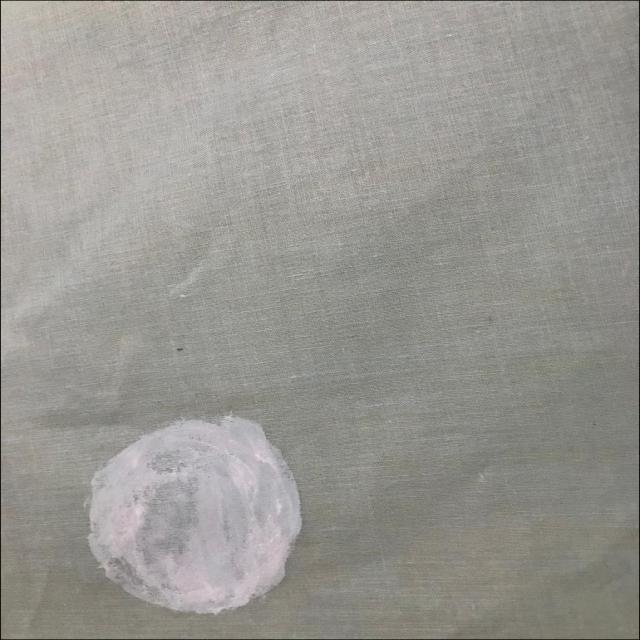Stain: (84, 408, 308, 616)
